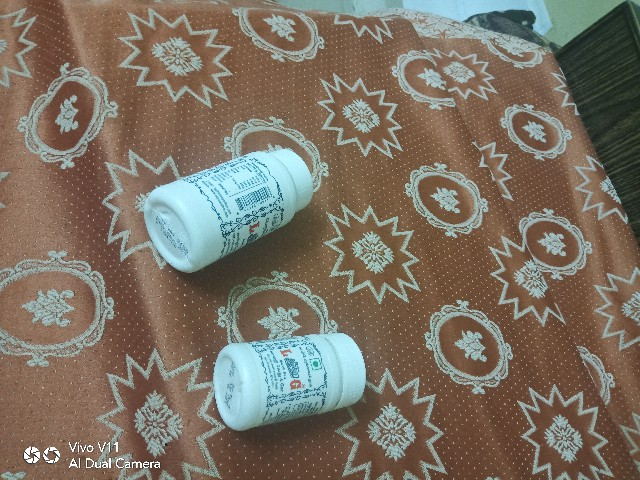lgasafoetidapowder large: (127, 116, 327, 275)
lgasafoetidapowder small: (177, 323, 375, 431)
